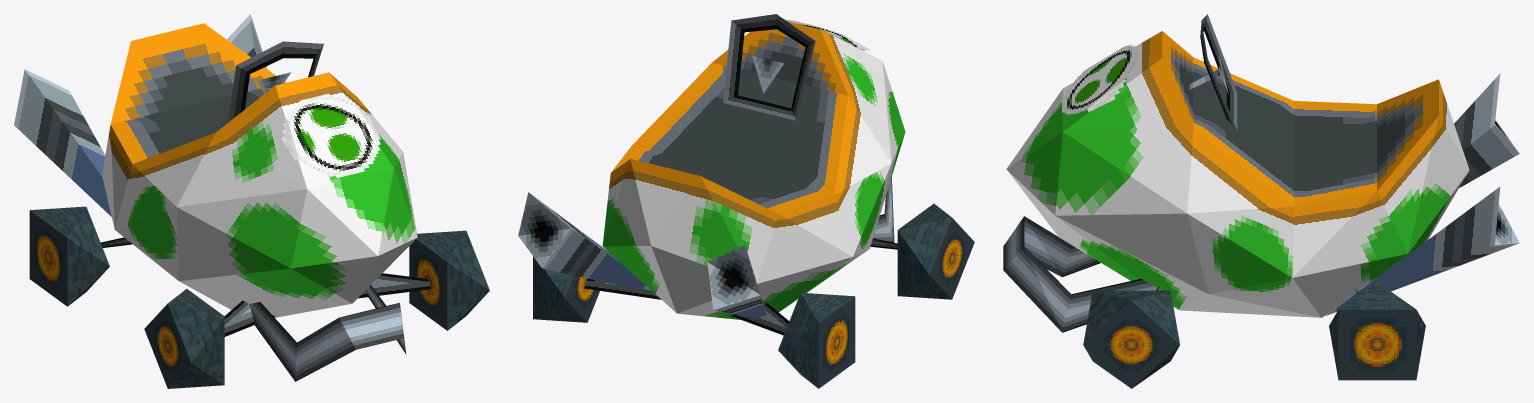
File: egg1.obj
The picture shows the model from 3 angles, left to right: view 1: azimuth 30°, elevation 25°; view 2: azimuth 150°, elevation 25°; view 3: azimuth 270°, elevation 25°; orthographic projection. The views are drawn at different scales.
Visible parts, largest first — view 1: polygon0, polygon2, polygon1; view 2: polygon0, polygon2; view 3: polygon0, polygon2, polygon1.
Part boxes in pixels (x1,y1,x2,y2): polygon0: [14, 14, 431, 381]; polygon2: [29, 206, 489, 388]; polygon1: [281, 93, 380, 177]; polygon0: [518, 14, 905, 335]; polygon2: [533, 203, 974, 388]; polygon0: [1003, 14, 1519, 332]; polygon2: [1083, 282, 1425, 388]; polygon1: [1062, 44, 1137, 114].
Size of the model in its own units: 0.7202 by 0.6599 by 1.05.
Materials: 3 (3 with a texture image).
